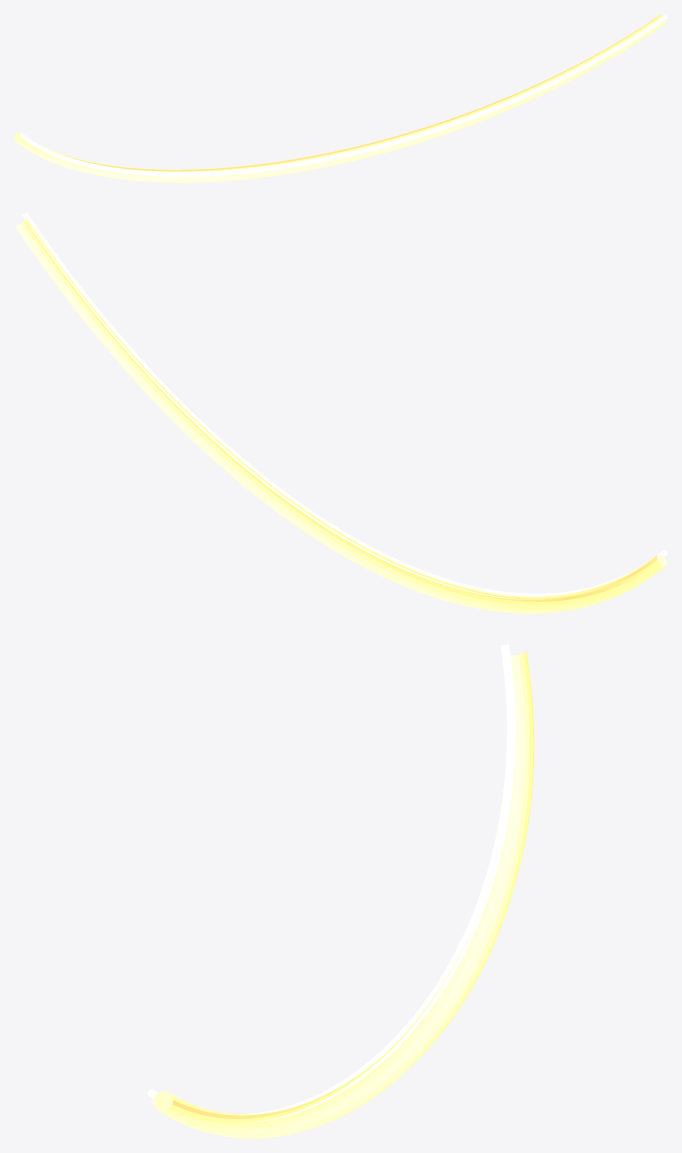
Rendered from ev_core_flagship_stream.glb.
The picture shows the model from 3 angles, top to bottom: view 1: azimuth 30°, elevation 25°; view 2: azimuth 150°, elevation 25°; view 3: azimuth 270°, elevation 25°; orthographic projection. The views are drawn at different scales.
Visible parts, largest first — view 1: ev_core_flagship_stream_0, ev_core_flagship_stream_1; view 2: ev_core_flagship_stream_0, ev_core_flagship_stream_1; view 3: ev_core_flagship_stream_0, ev_core_flagship_stream_1.
Boxes of the visible parts, left/top/right/bottom form: ev_core_flagship_stream_0: left=14, top=14, right=666, bottom=182; ev_core_flagship_stream_1: left=19, top=15, right=667, bottom=176; ev_core_flagship_stream_0: left=14, top=218, right=666, bottom=613; ev_core_flagship_stream_1: left=22, top=212, right=667, bottom=599; ev_core_flagship_stream_0: left=153, top=651, right=534, bottom=1138; ev_core_flagship_stream_1: left=147, top=643, right=515, bottom=1122.
Bounding box in the file's own units: 450 × 101 × 134.
